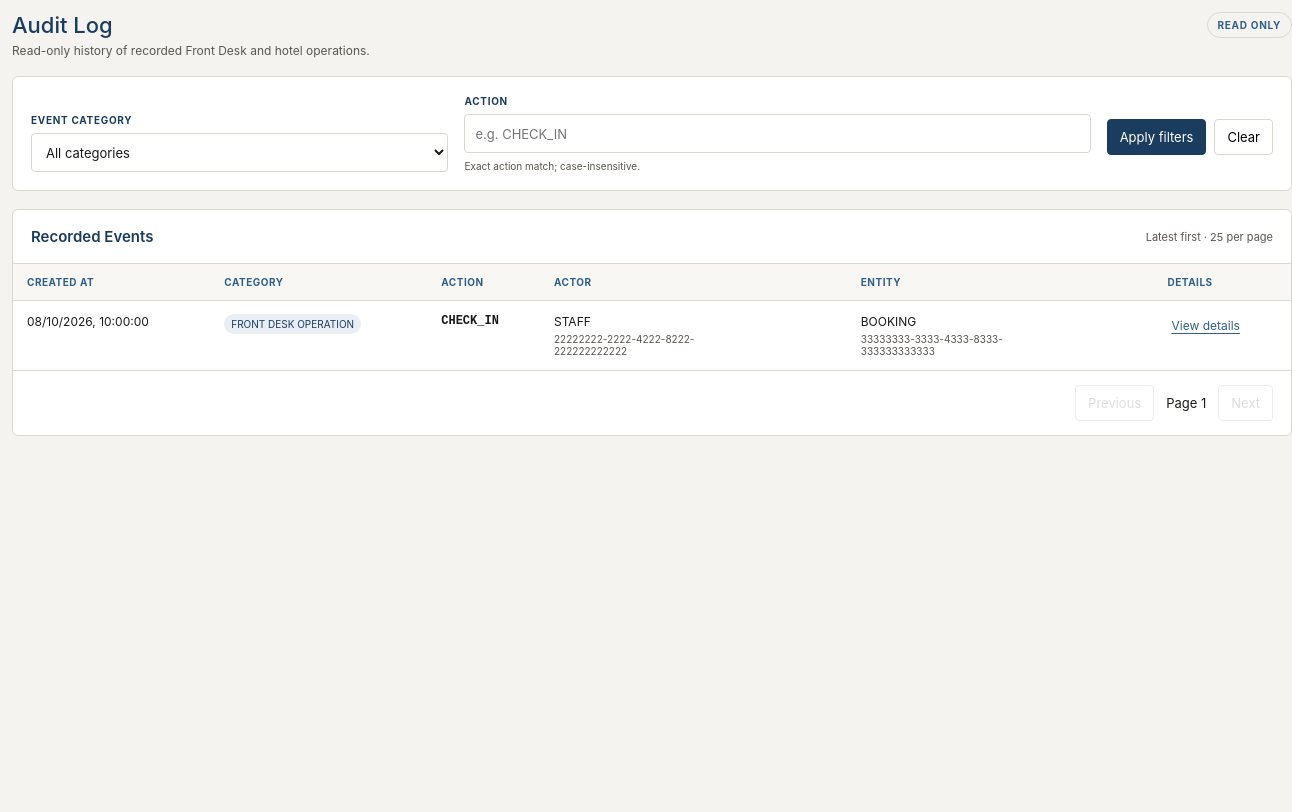
Test: AuditLogScreen › handles an unavailable detail record without hiding the list
Expected: the text "CHECK_IN" is shown, [427,300,540,370]
Click the button "View details" at {"x": 1206, "y": 326}, box [1168,314,1244,337]
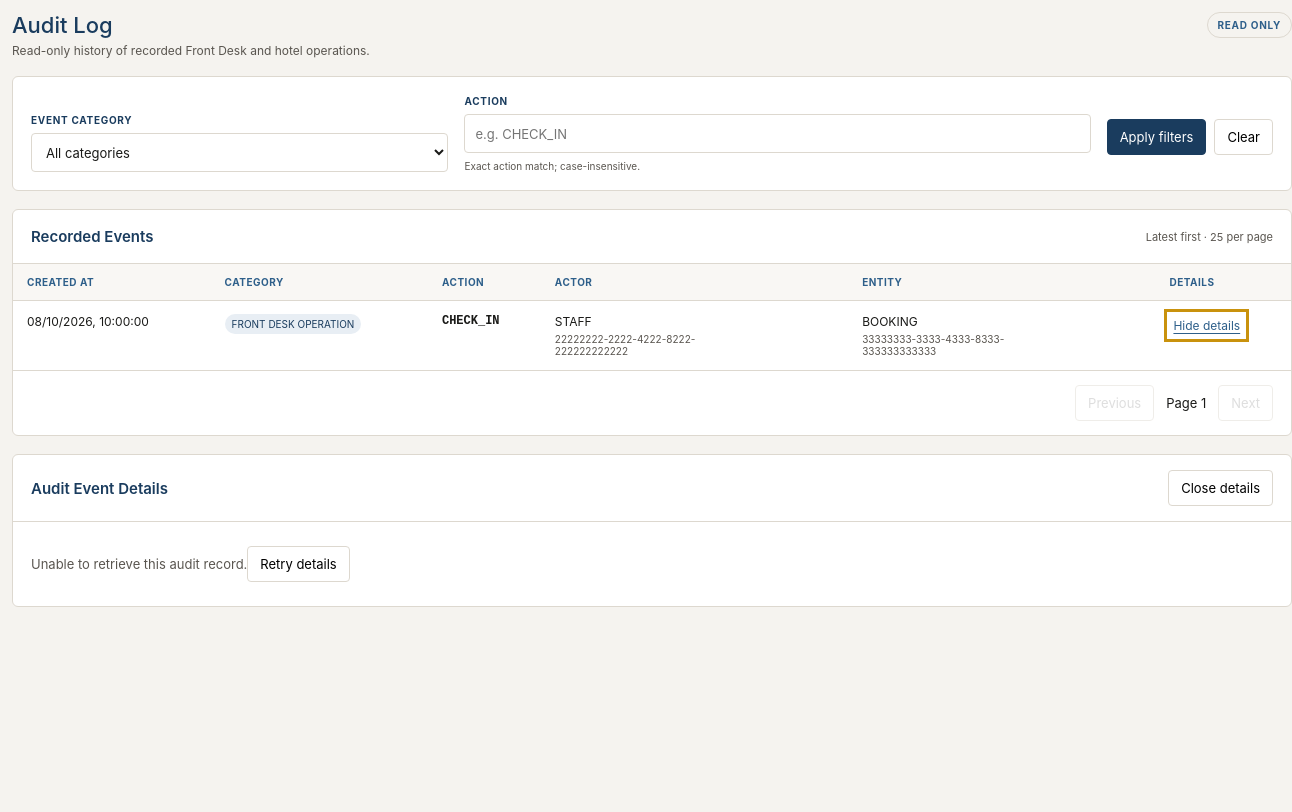
Expected: the text "CHECK_IN" is shown, [428,300,541,370]
Expected: the message shows "Unable to retrieve this audit record", [31,556,247,572]
